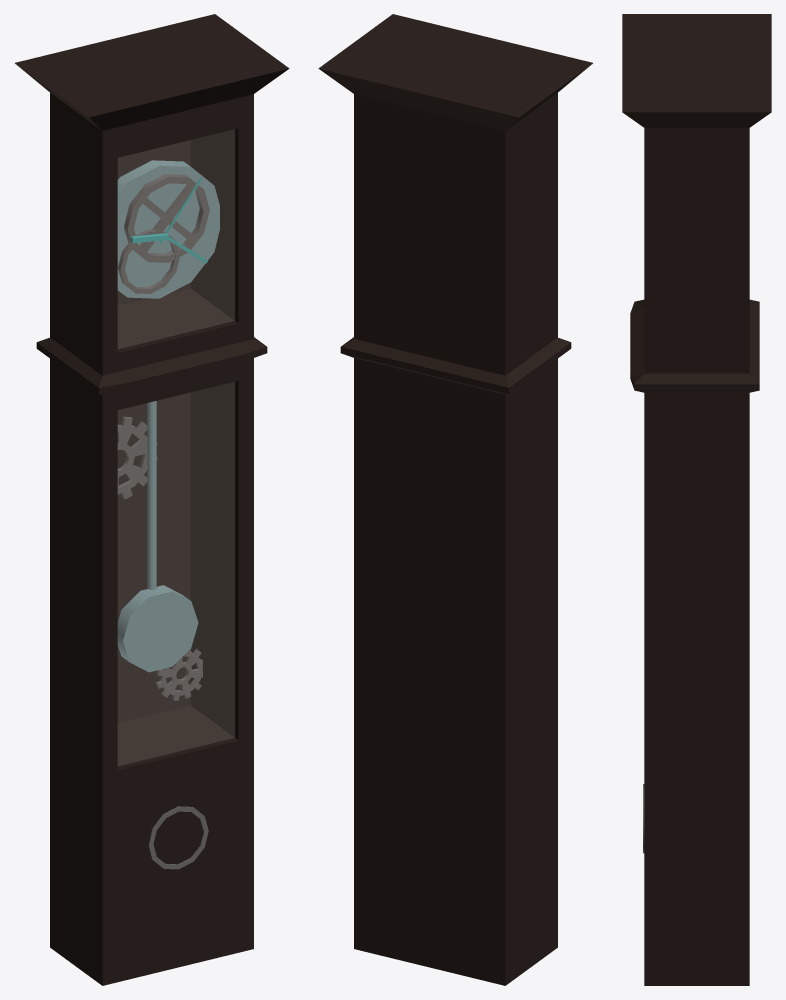
File: Modé_Horloge.FBX
The picture shows the model from 3 angles, left to right: view 1: azimuth 30°, elevation 25°; view 2: azimuth 150°, elevation 25°; view 3: azimuth 270°, elevation 25°; orthographic projection.
Visible parts, largest first — view 1: Horloge; view 2: Horloge; view 3: Horloge.
Boxes of the visible parts, x1=… form: Horloge: x1=15, y1=14, x2=289, y2=985; Horloge: x1=318, y1=14, x2=592, y2=985; Horloge: x1=622, y1=14, x2=771, y2=985.
Bounding box in the file's own units: 26.12 × 110 × 16.8.
